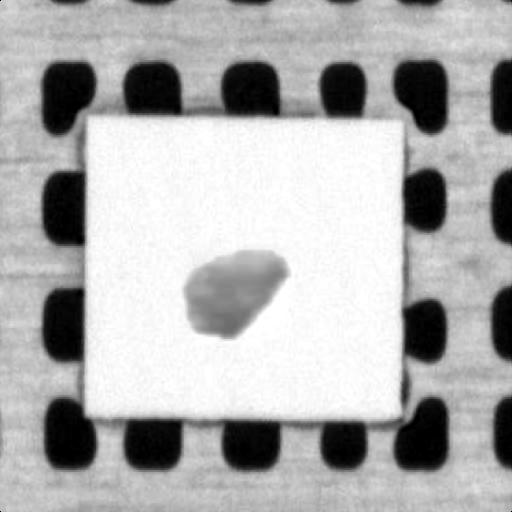DIE_INK: (184, 244, 285, 344)
